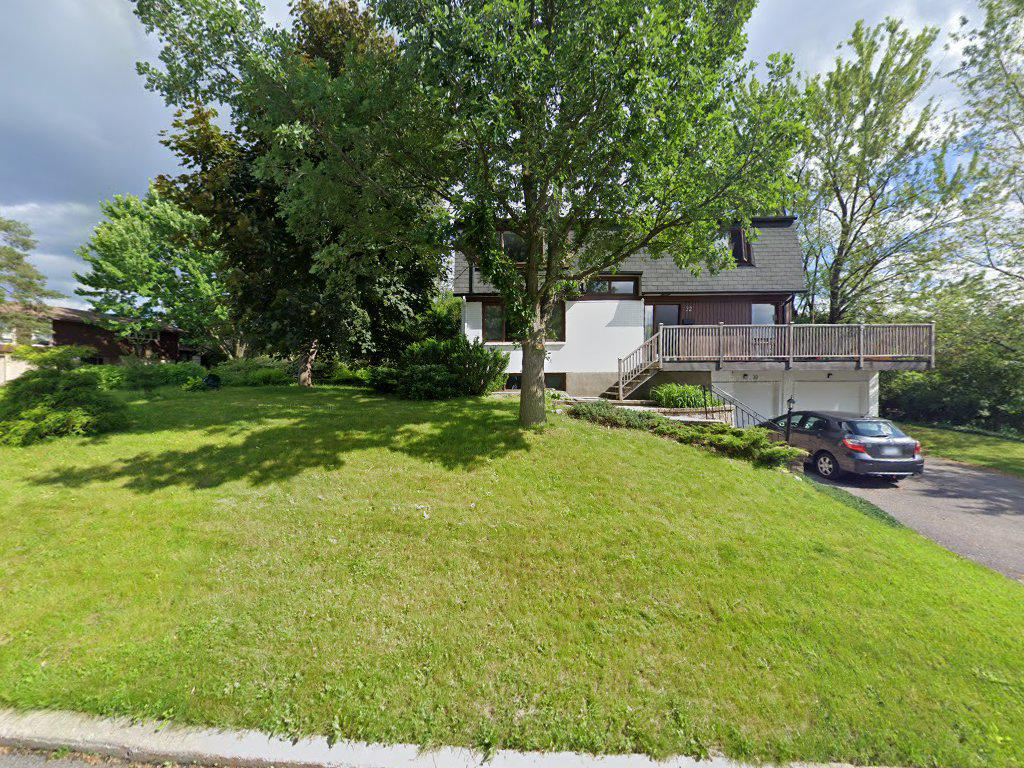trunk: (515, 287, 558, 441)
